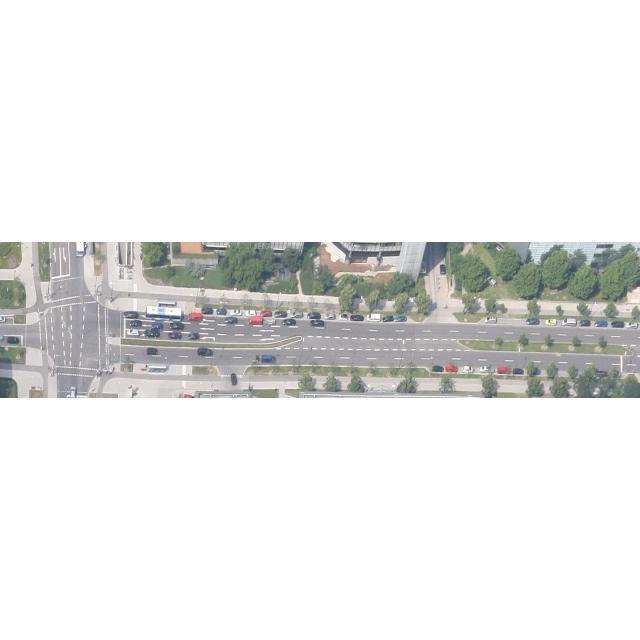vehicle: (486, 275, 498, 287), (145, 328, 159, 338), (168, 322, 184, 330), (198, 348, 212, 356), (123, 310, 137, 318), (188, 313, 202, 321), (562, 318, 576, 326), (225, 316, 238, 324), (366, 313, 379, 321), (310, 319, 324, 326), (7, 336, 19, 344), (127, 328, 139, 336), (484, 316, 496, 324), (261, 356, 275, 362), (168, 332, 182, 338), (248, 318, 262, 324), (282, 319, 296, 325), (480, 366, 494, 372), (594, 319, 606, 326), (231, 373, 237, 385), (130, 321, 142, 327), (498, 367, 510, 373), (512, 368, 524, 374), (626, 322, 638, 328), (611, 321, 623, 327), (544, 319, 556, 325), (526, 318, 538, 324), (394, 316, 406, 322), (351, 315, 363, 321), (308, 312, 320, 318), (290, 312, 302, 318), (260, 310, 272, 316), (230, 309, 242, 315), (146, 348, 158, 354), (70, 387, 76, 398), (432, 365, 443, 371), (447, 365, 458, 371), (152, 323, 162, 329), (189, 334, 199, 340), (440, 265, 446, 275), (463, 366, 473, 372), (580, 320, 590, 326), (276, 311, 286, 317), (246, 310, 256, 316), (202, 308, 212, 314), (383, 315, 392, 321), (217, 308, 226, 314), (251, 356, 259, 362), (266, 319, 274, 325), (339, 314, 347, 320), (324, 314, 334, 318)
